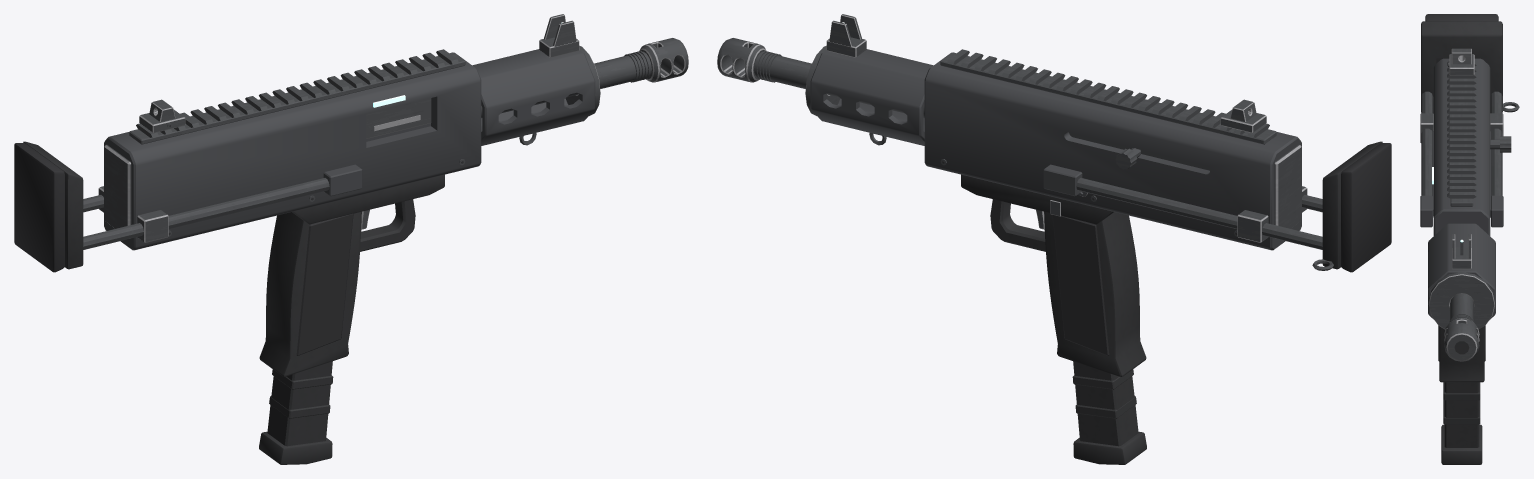
File: w_uzi.glb
3 views of the same model, side by side, from view 1: azimuth 30°, elevation 25°; view 2: azimuth 150°, elevation 25°; view 3: azimuth 270°, elevation 25° (orthographic). The views are drawn at different scales.
Parts seen in each view (by area): view 1: W_uzi; view 2: W_uzi; view 3: W_uzi.
Part boxes in pixels (<box>): W_uzi: <box>14,14,688,464</box>; W_uzi: <box>717,14,1391,464</box>; W_uzi: <box>1420,14,1519,464</box>.
Bounding box in the file's own units: 0.4749 × 0.2695 × 0.0704.
Materials: 6 (3 with a texture image).
